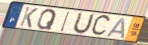A: (105, 17, 126, 40)
C: (90, 14, 112, 38)
I: (59, 10, 72, 33)
K: (18, 6, 40, 30)
Q: (36, 8, 58, 31)
U: (71, 11, 96, 35)
